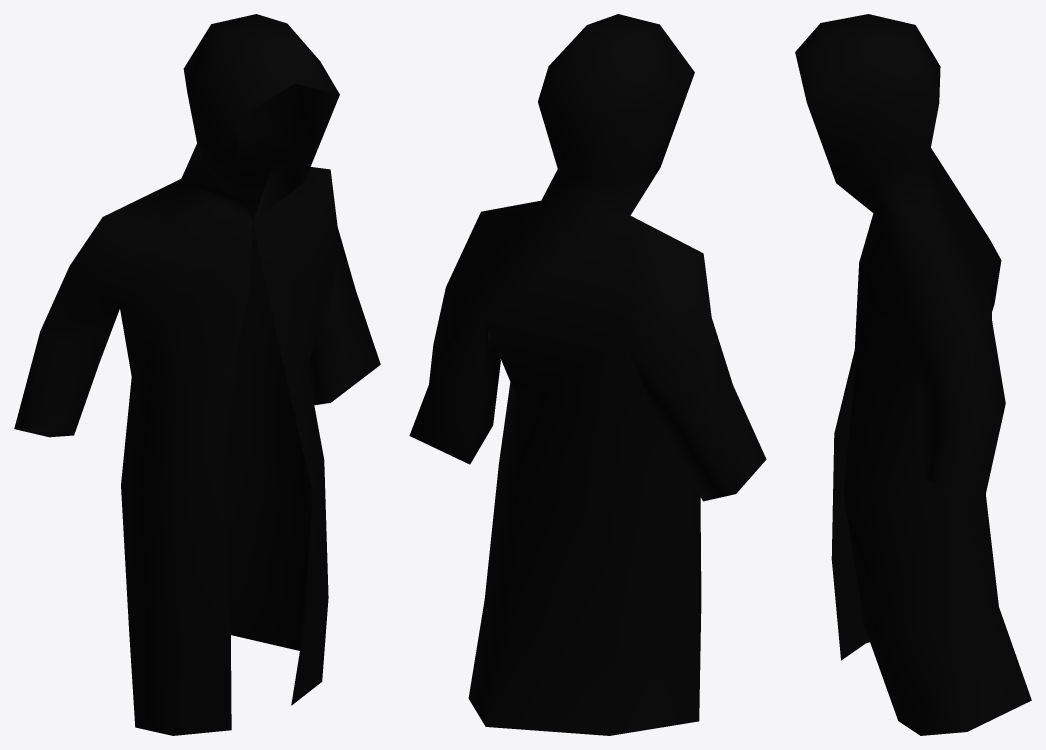
3 views of the same model, side by side, from view 1: azimuth 30°, elevation 25°; view 2: azimuth 150°, elevation 25°; view 3: azimuth 270°, elevation 25° (orthographic). The views are drawn at different scales.
Visible parts, largest first — view 1: T1L6M002_4; view 2: T1L6M002_4; view 3: T1L6M002_4.
Part boxes in pixels (<box>): T1L6M002_4: <box>14,14,380,735</box>; T1L6M002_4: <box>409,14,766,735</box>; T1L6M002_4: <box>795,14,1031,735</box>.
Bounding box in the file's own units: 0.6133 × 1.16 × 0.3721.
